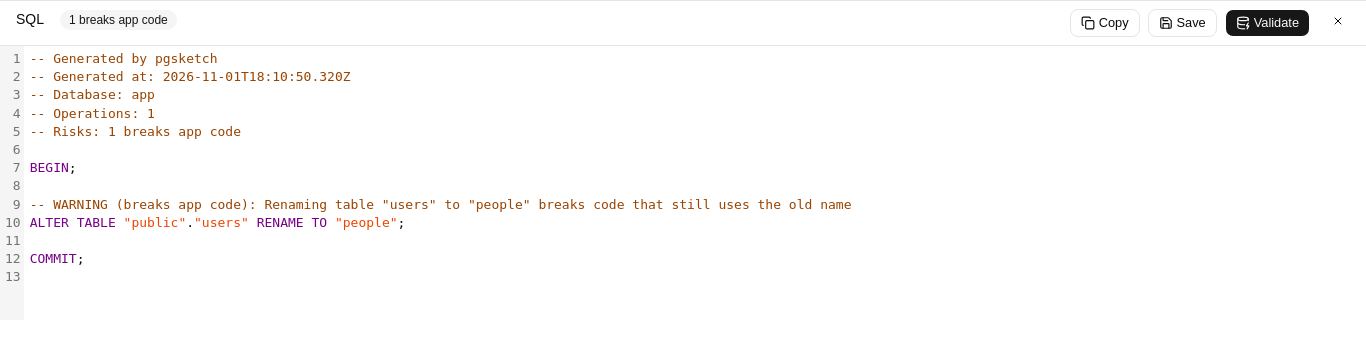
it: Validate › checks the database, runs the statements as rendered, and shows each result next to them
Click the button "Validate".
click(1267, 23)  # box [1225,9,1310,37]
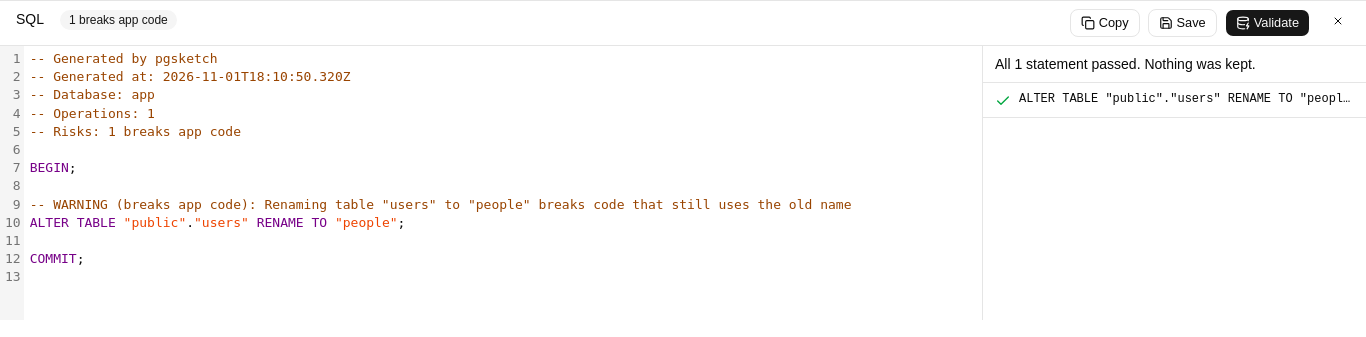
expect the message reads "All 1 statement passed. Nothing was kept.": met, box [995,56,1256,72]
expect the icon named "Passed" is shown: met, box [995,93,1011,109]
